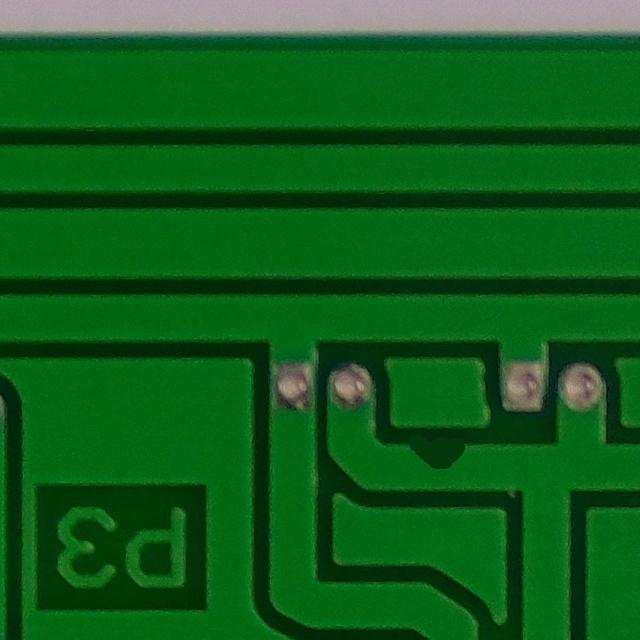mouse_bite: (404, 430, 481, 481)
